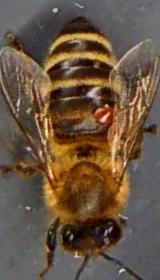varroa_mite: (90, 99, 116, 131)
